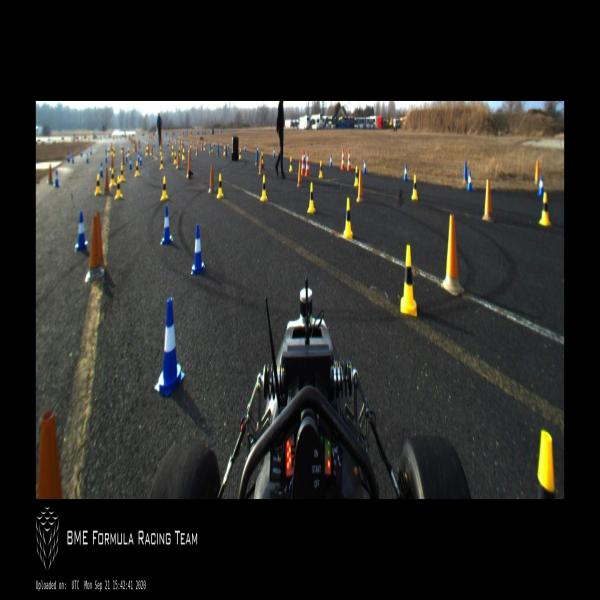blue_cone: (152, 297, 186, 398), (190, 225, 205, 277), (75, 211, 89, 251), (160, 206, 173, 244), (466, 171, 472, 191), (538, 176, 544, 196), (54, 170, 60, 188), (403, 164, 408, 182), (86, 152, 90, 165), (363, 159, 366, 174), (100, 162, 103, 177), (105, 148, 108, 163), (71, 151, 74, 164), (129, 157, 132, 169), (67, 150, 70, 162), (330, 154, 332, 168), (273, 147, 275, 159), (140, 153, 142, 164), (80, 147, 82, 158), (227, 140, 229, 149), (257, 146, 259, 154), (245, 144, 246, 152), (221, 141, 222, 147), (214, 142, 215, 148)
large_orange_cone: (305, 149, 310, 177), (301, 150, 305, 176), (347, 148, 351, 172), (341, 147, 345, 170)
yellow_cone: (535, 430, 556, 498), (400, 245, 419, 317), (539, 192, 551, 226), (306, 182, 318, 215), (344, 196, 352, 240), (114, 176, 123, 199), (161, 174, 168, 200), (260, 174, 267, 200), (411, 174, 418, 200), (217, 174, 223, 198), (95, 174, 101, 194), (110, 169, 115, 186), (354, 167, 358, 186), (318, 162, 323, 177), (120, 165, 124, 183), (135, 162, 139, 176), (160, 156, 164, 169), (171, 144, 175, 157), (182, 149, 186, 160), (210, 142, 213, 154), (223, 146, 226, 157), (160, 145, 163, 156), (127, 146, 130, 157), (290, 157, 292, 172), (178, 146, 181, 156), (113, 147, 116, 157), (146, 144, 148, 157), (203, 143, 206, 151), (239, 149, 241, 160), (262, 153, 264, 164), (174, 153, 176, 164), (190, 140, 191, 148)
